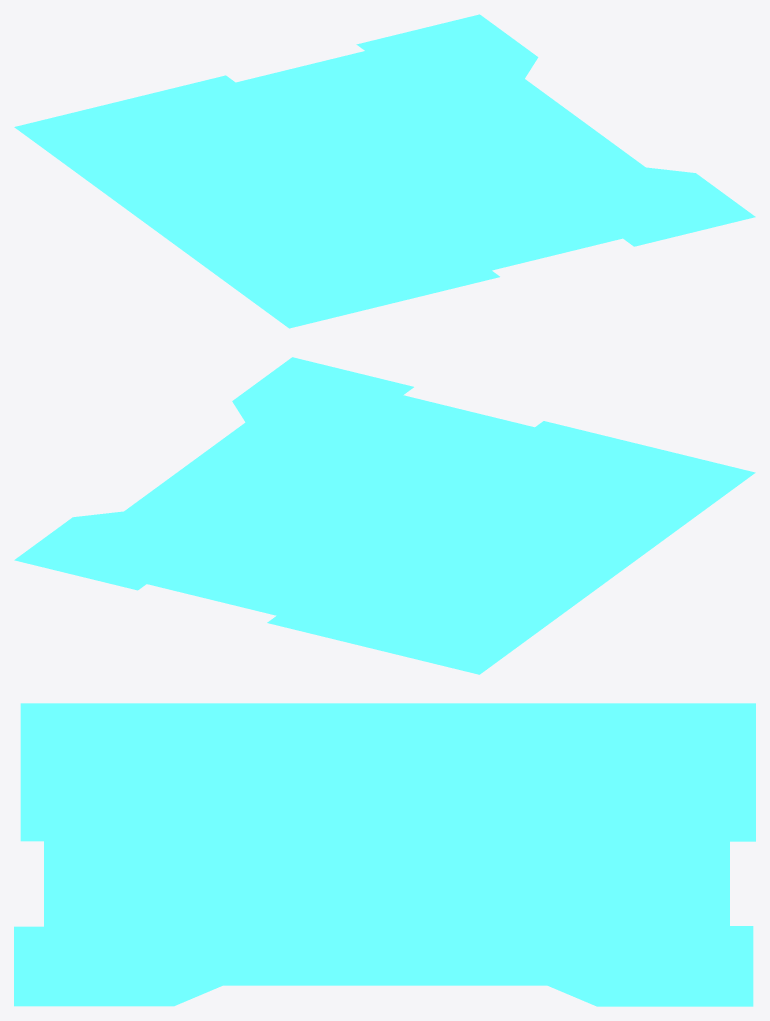
Rendered from museum_sealing.dae.
3 renders of one model, top to bottom at view 1: azimuth 30°, elevation 25°; view 2: azimuth 150°, elevation 25°; view 3: azimuth 270°, elevation 25°, orthographic. The views are drawn at different scales.
Parts seen in each view (by area): view 1: Ceiling; view 2: Ceiling; view 3: Ceiling.
Part boxes in pixels (x1=…): Ceiling: x1=14, y1=14, x2=755, y2=328; Ceiling: x1=14, y1=357, x2=755, y2=674; Ceiling: x1=14, y1=703, x2=755, y2=1006.
Bounding box in the file's own units: 54.97 × 56.87 × 0.
